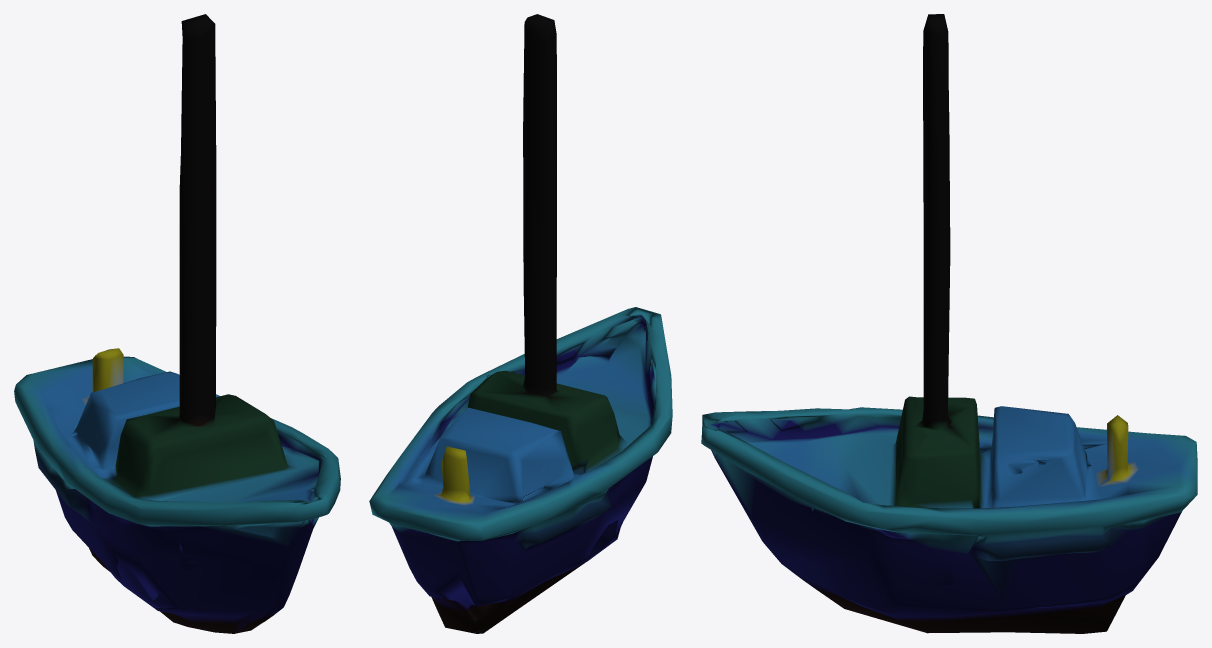
The model's file is gen3d-sailboat-lod0.glb.
3 renders of one model, left to right at view 1: azimuth 30°, elevation 25°; view 2: azimuth 150°, elevation 25°; view 3: azimuth 270°, elevation 25°, orthographic. The views are drawn at different scales.
Parts seen in each view (by area): view 1: part_0; view 2: part_0; view 3: part_0.
Boxes of the visible parts, x1,y1,x2,y2 form: part_0: (14,14,340,633); part_0: (369,14,672,633); part_0: (701,14,1197,633).
Bounding box in the file's own units: 0.3753 × 0.9981 × 0.7377.
